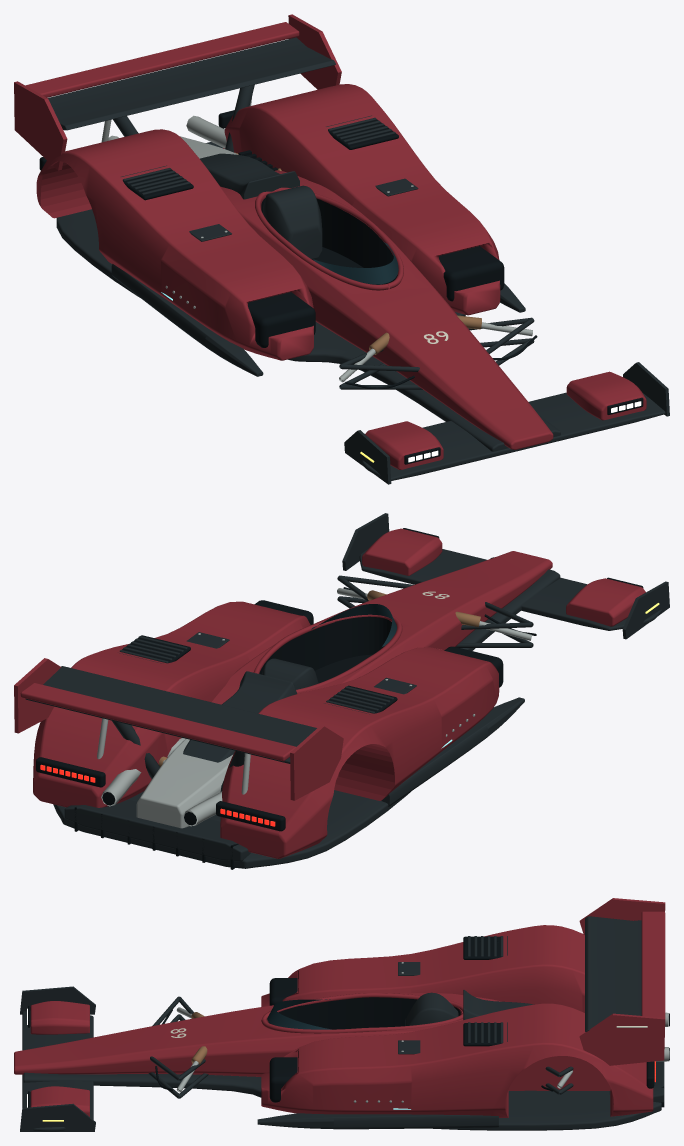
The picture shows the model from 3 angles, top to bottom: view 1: azimuth 30°, elevation 25°; view 2: azimuth 150°, elevation 25°; view 3: azimuth 270°, elevation 25°; orthographic projection. The views are drawn at different scales.
Parts seen in each view (by area): view 1: K89_Paint, K89_Carbon, K89_Recess, K89_Flap, K89_Alloy, K89_Windscreen; view 2: K89_Paint, K89_Carbon, K89_Recess, K89_Alloy, K89_Flap, K89_Windscreen, K89_BrakeBank; view 3: K89_Paint, K89_Carbon, K89_Recess, K89_Flap, K89_Windscreen, K89_Alloy.
Boxes of the visible parts, x1,y1,x2,y2 form: K89_Paint: (14,14,646,469); K89_Carbon: (48,37,669,484); K89_Recess: (39,110,643,464); K89_Flap: (25,22,299,97); K89_Alloy: (101,97,532,382); K89_Windscreen: (313,242,398,284); K89_Paint: (14,528,645,858); K89_Carbon: (25,513,669,868); K89_Recess: (36,528,643,869); K89_Alloy: (97,588,532,828); K89_Flap: (20,683,295,761); K89_Windscreen: (311,604,396,646); K89_BrakeBank: (40,764,275,826); K89_Paint: (14,898,665,1117); K89_Carbon: (20,916,664,1131); K89_Recess: (28,936,669,1107); K89_Flap: (641,911,665,1017); K89_Windscreen: (267,999,331,1029); K89_Alloy: (176,962,669,1102).
Bounding box in the file's own units: 2.52 × 1.1 × 5.52.
